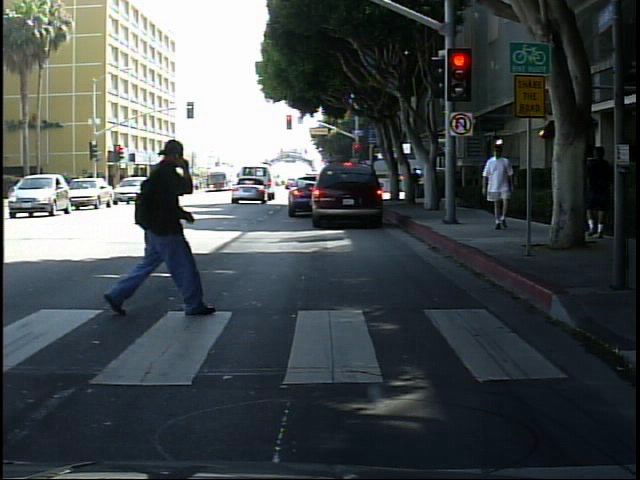person: (102, 123, 214, 337), (480, 145, 519, 240), (583, 137, 616, 246)
